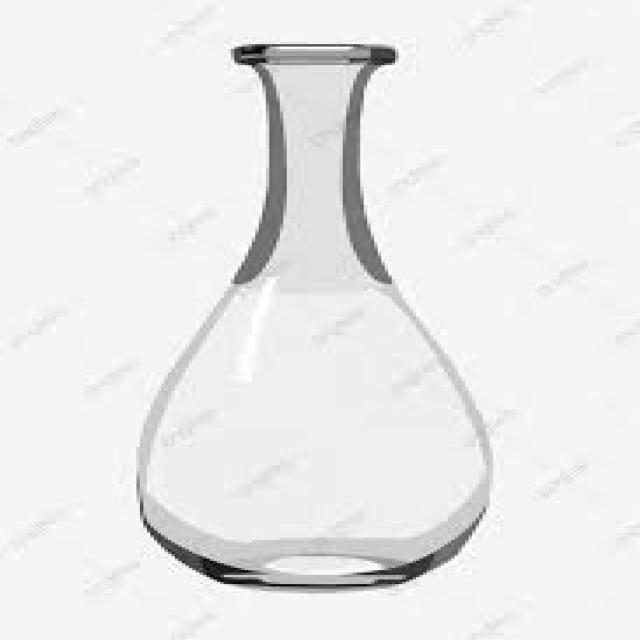Glass-Non-Biodegradable but Recyclable-: (131, 42, 498, 593)
